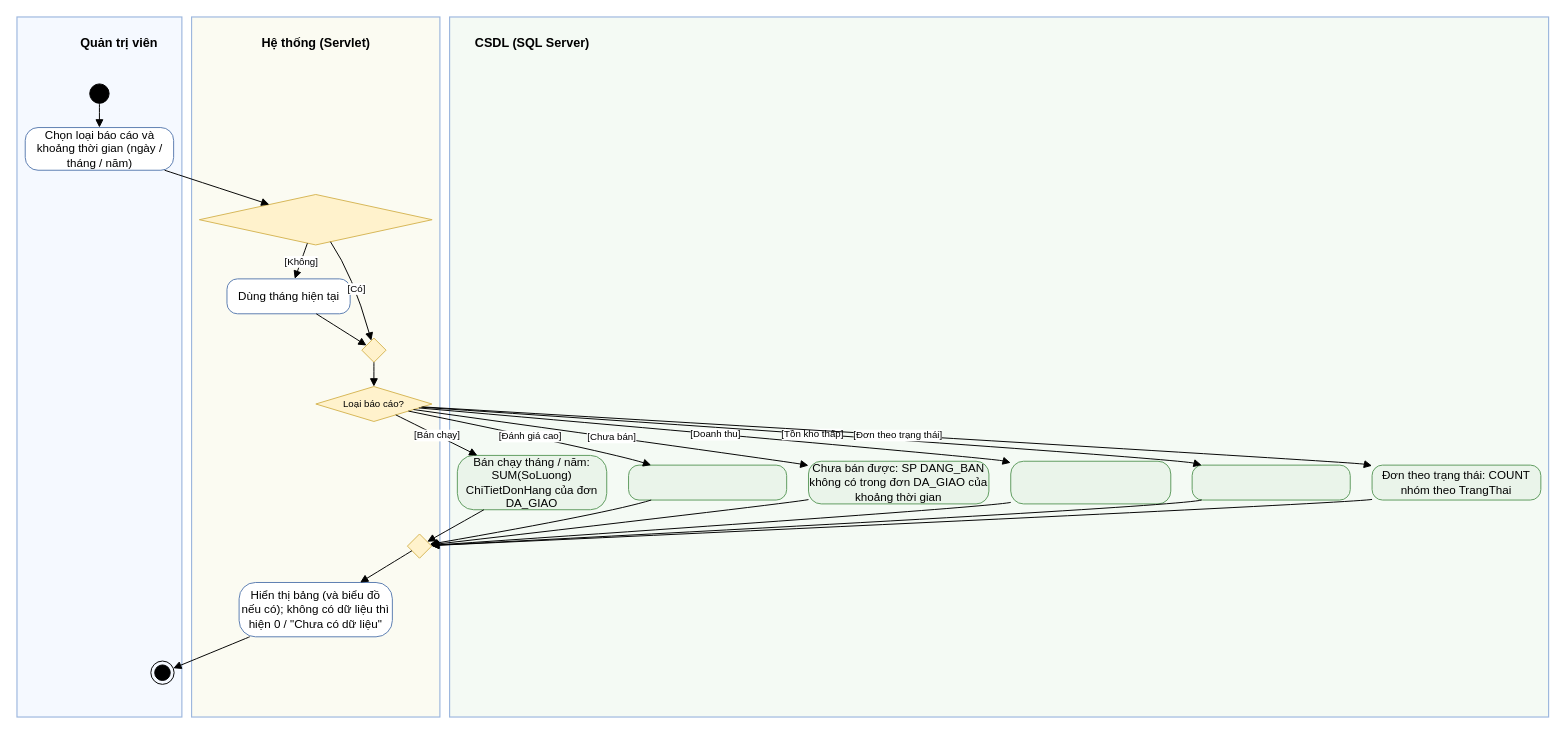
This 1567x734 diagram has some shape labels left out. Here are the shapes that lost their labels. From the top down, the box of each, then its label:
(198, 194, 432, 245): Khoảng thời gian hợp lệ?
(628, 464, 787, 500): Đánh giá cao: AVG(SoSao) >= 4 (BiAn = 0)
(1010, 460, 1171, 504): Doanh thu: SUM(TongTien) đơn DA_GIAO, nhóm theo NgayGiaoThanhCong
(1191, 464, 1350, 500): Tồn kho thấp: SoLuongTon <= ngưỡng
